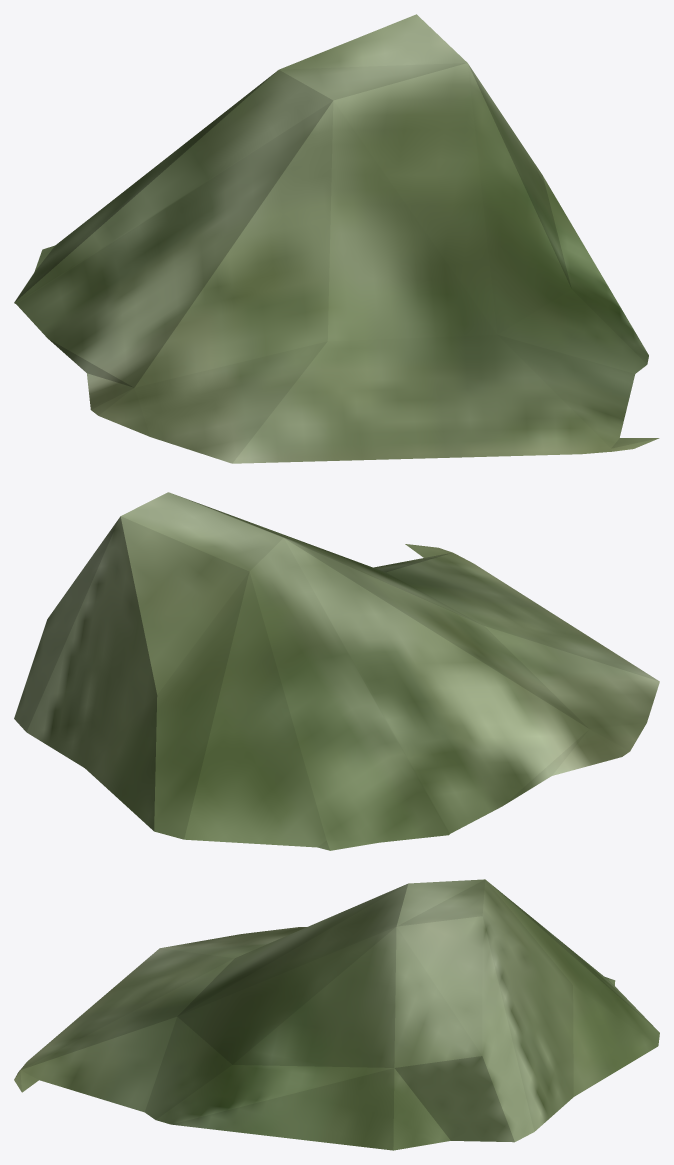
The picture shows the model from 3 angles, top to bottom: view 1: azimuth 30°, elevation 25°; view 2: azimuth 150°, elevation 25°; view 3: azimuth 270°, elevation 25°; orthographic projection. The views are drawn at different scales.
Size of the model in its own units: 0.4455 by 0.1742 by 0.5436.
1 material, 1 textured.
